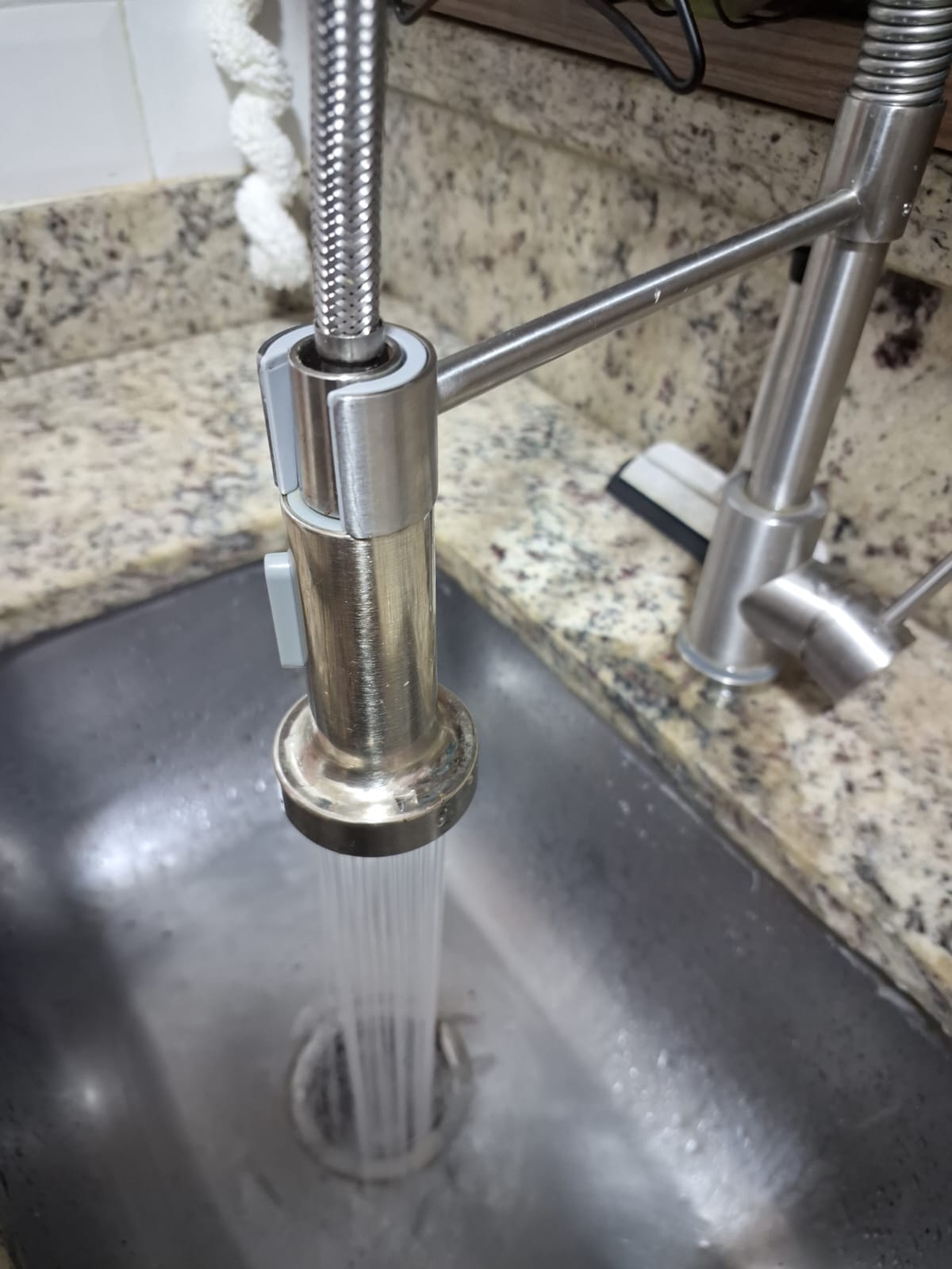torneira_aberta: (209, 0, 947, 1214)
